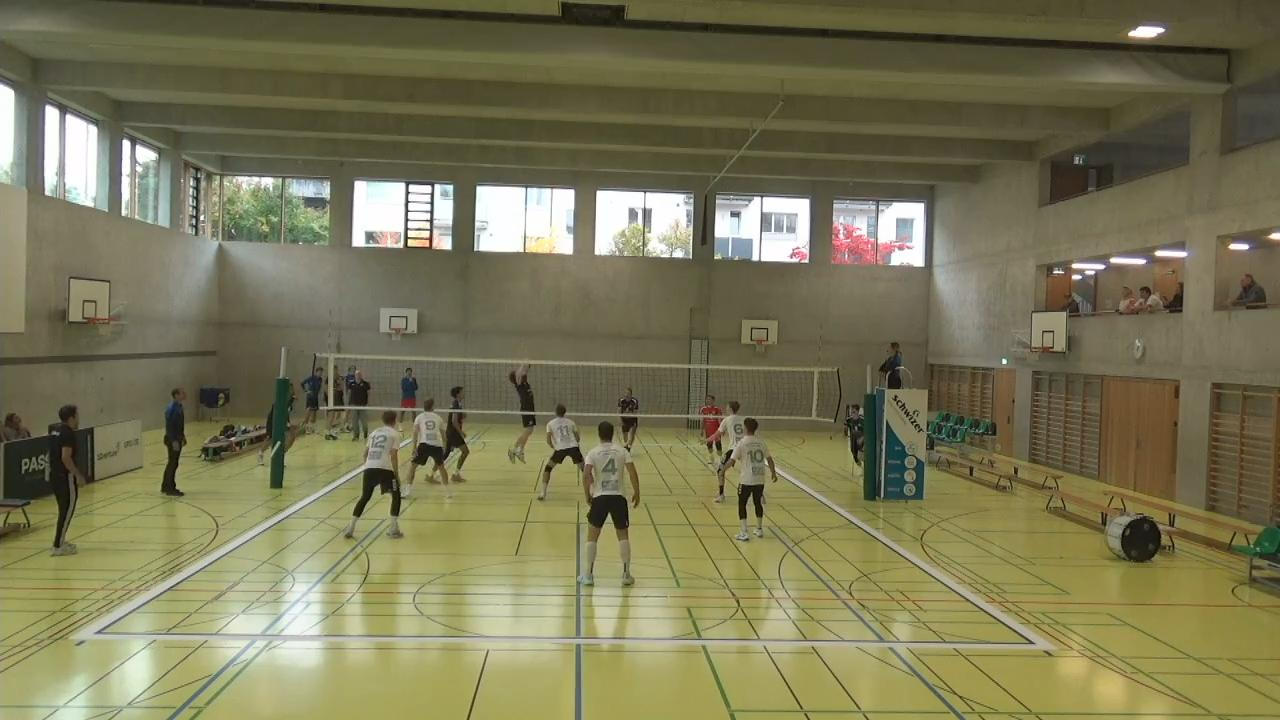alzata: (506, 356, 538, 466)
